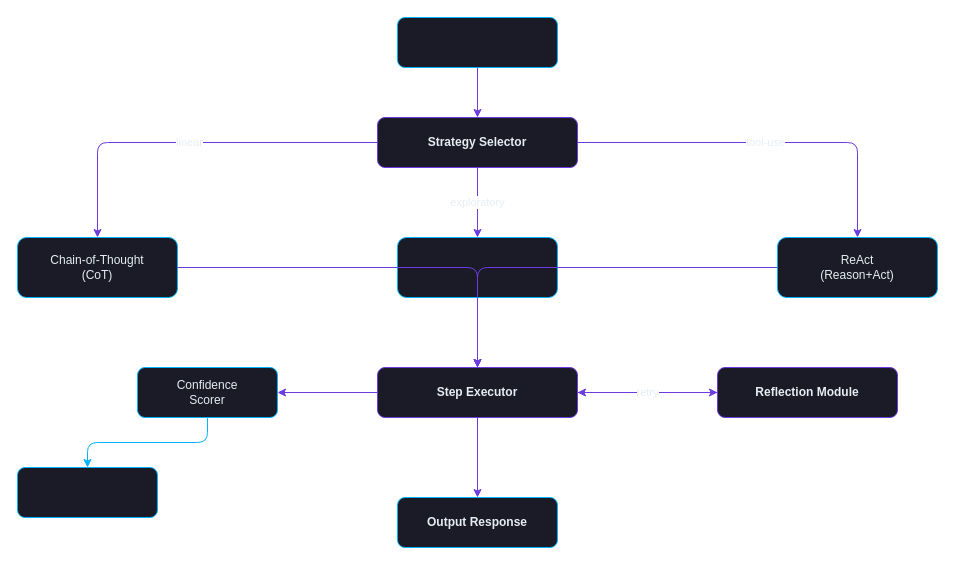
The diagram is 955 pixels wide and 565 high, and some of its shapes have lost their labels. The box of each missing label's shape, as (x1, y1, x2, y2) in pixels:
Input Query: (396, 16, 558, 68)
Tree-of-Thought (ToT): (396, 236, 558, 298)
Working Memory: (16, 466, 158, 518)
